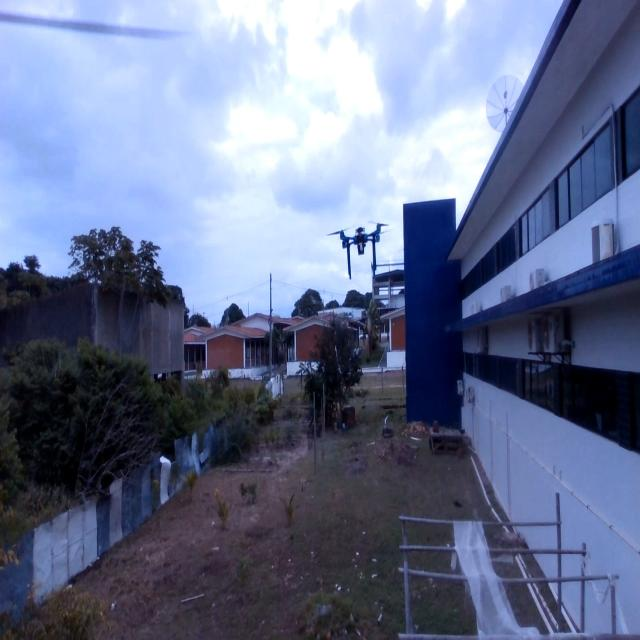-uav-: (322, 210, 394, 289)
